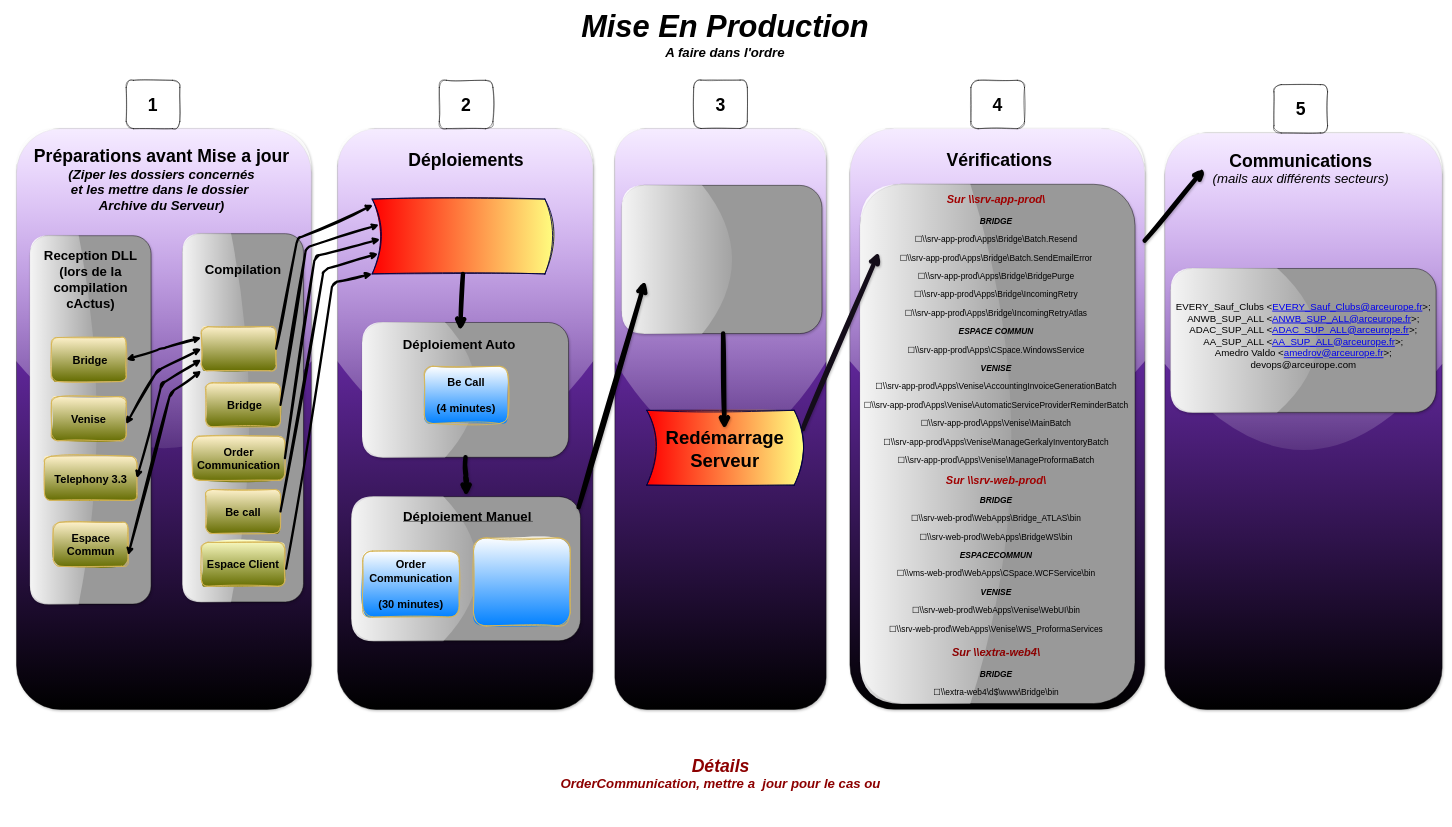
Image size: 1452x827. Some labels were removed from this diagram. The shapes that lost their labels are listed below. From the top down, each one's centre as x and y in pixels, then its label:
pixel 463 236: Coupure Serveur
pixel 722 259: Déploiement cActus (20 minutes)
pixel 238 348: cActus
pixel 521 581: Déploiement Bridge (Si copies faites en amont, 1 heure, sinon : 3 heures)
